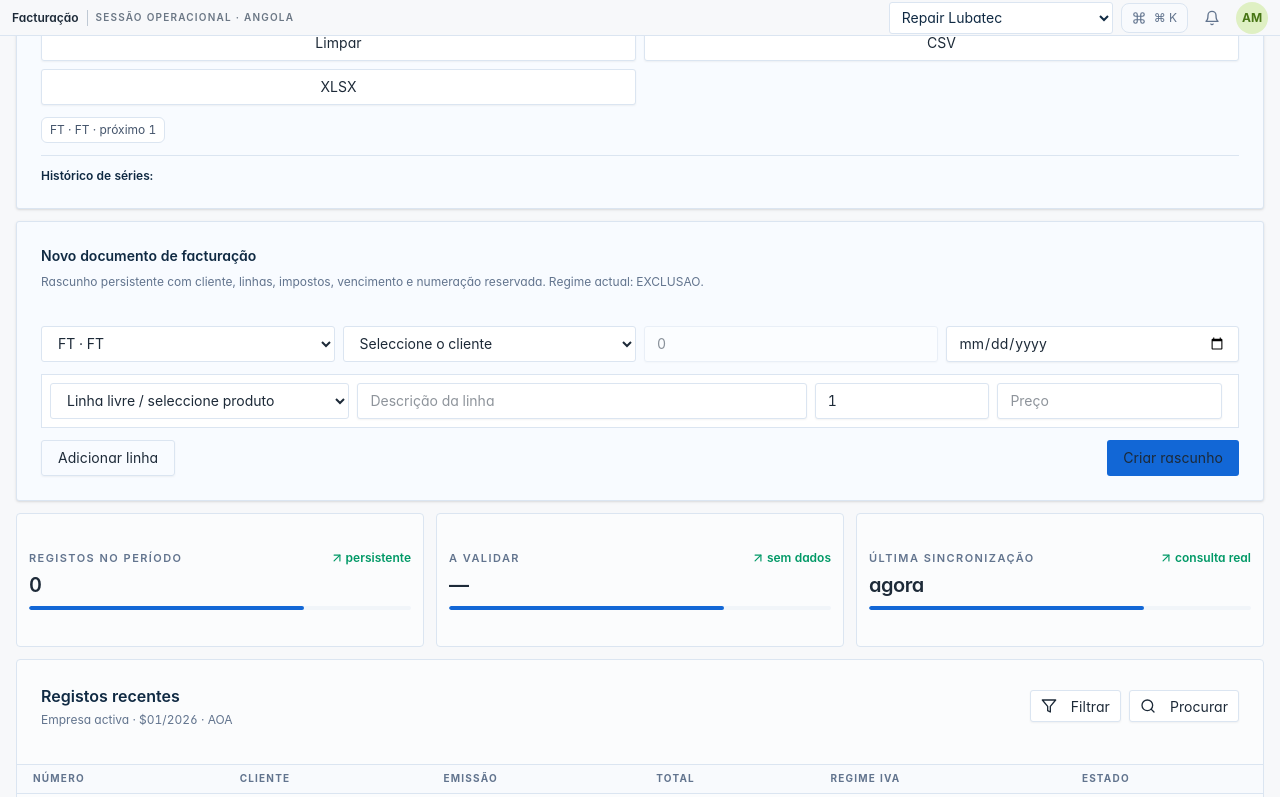
Test: Home traceability integration › creates a billing draft through the real document mutation contract
(page scrolled)
Submit the form "Criar rascunho", box [41,326,1239,476]
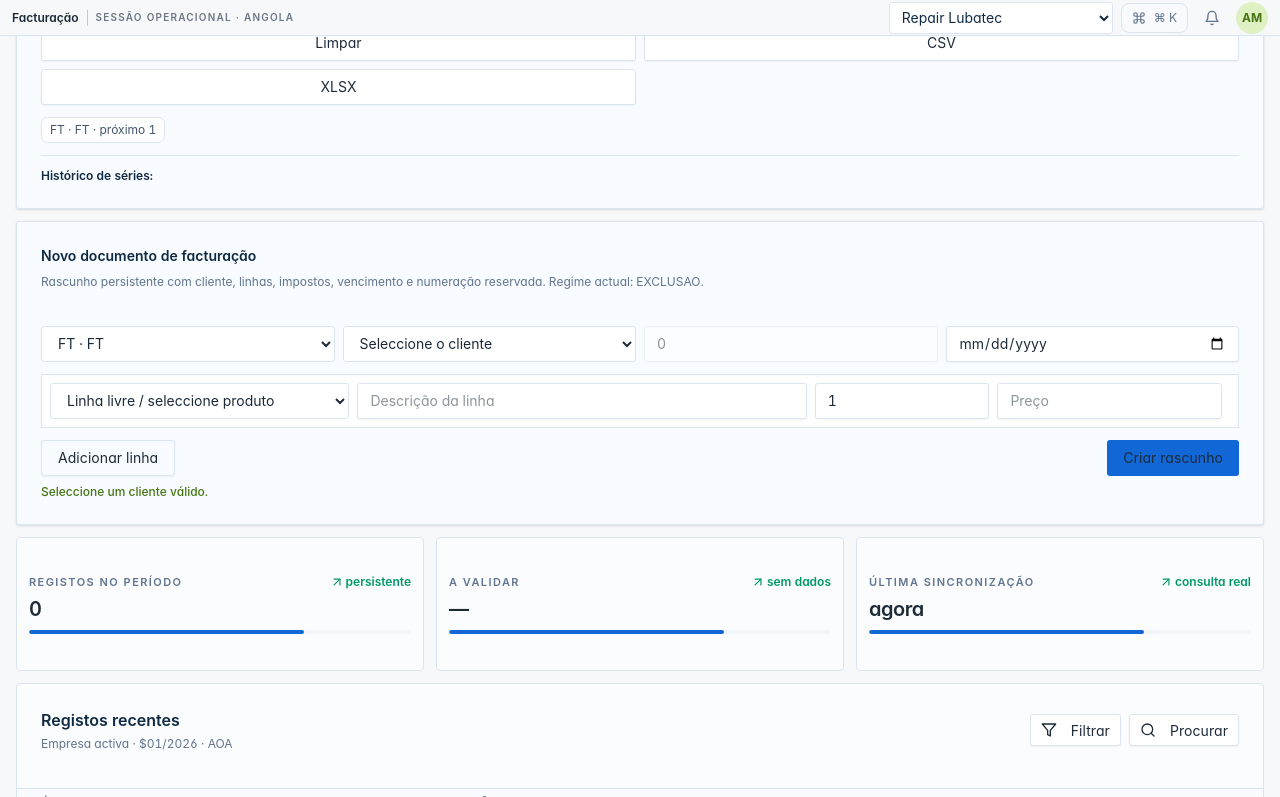
Check: the text "Seleccione um cliente válido." is shown, box [41,484,208,498]
Select "Cliente Teste · 500000001" in the dropdown named "Cliente": (489, 344) [342,326,636,362]
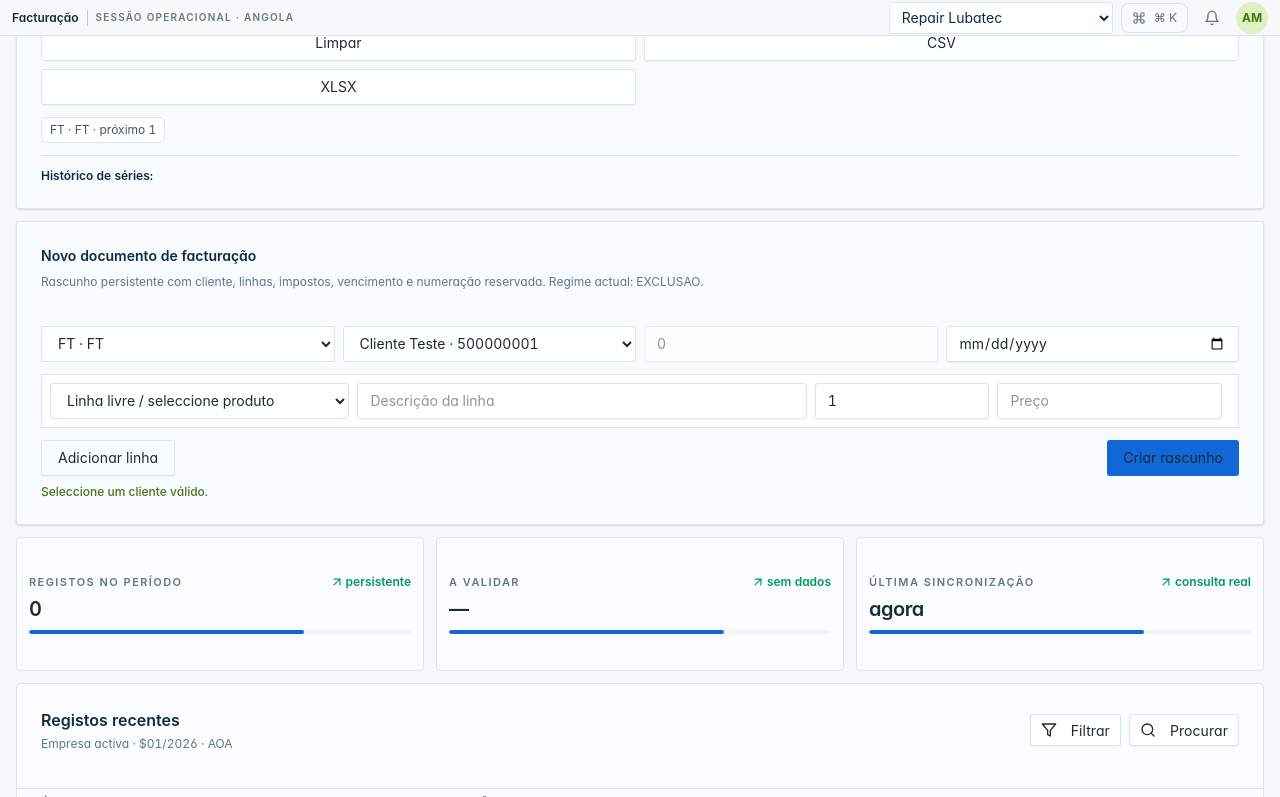
In the field with placeholder "Descrição da linha": (582, 400) [358,382,807,418], type "Serviço de manutenção"
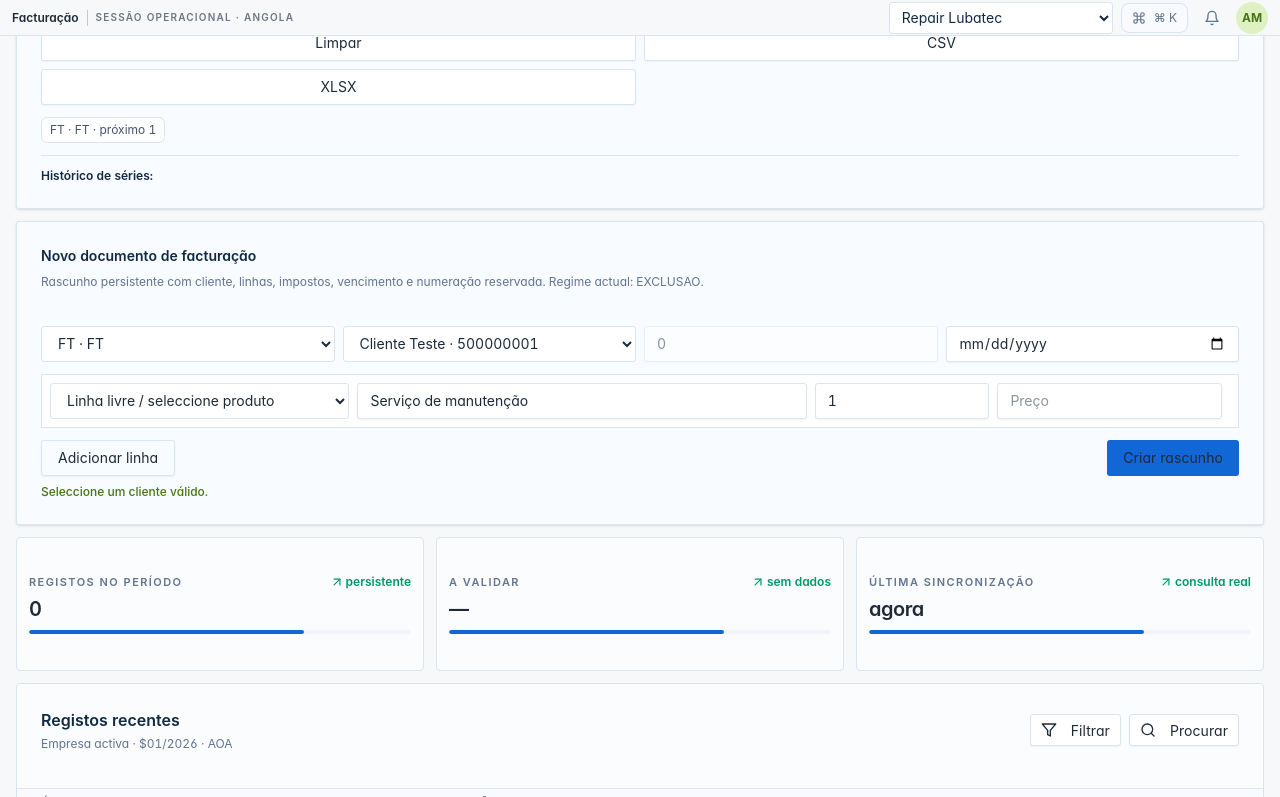
In the number field with placeholder "Preço": (1110, 400) [997,382,1222,418], type "1500"
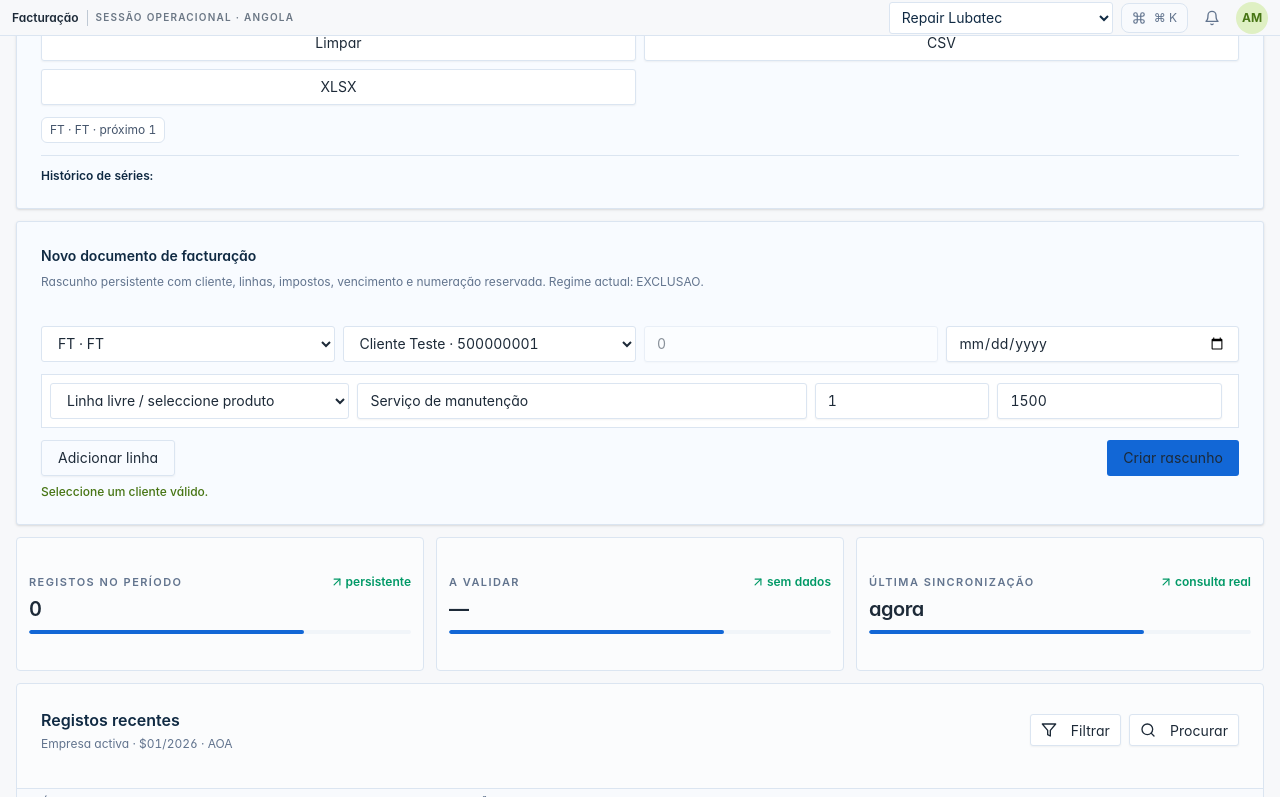
Submit the form "Criar rascunho", box [41,326,1239,476]
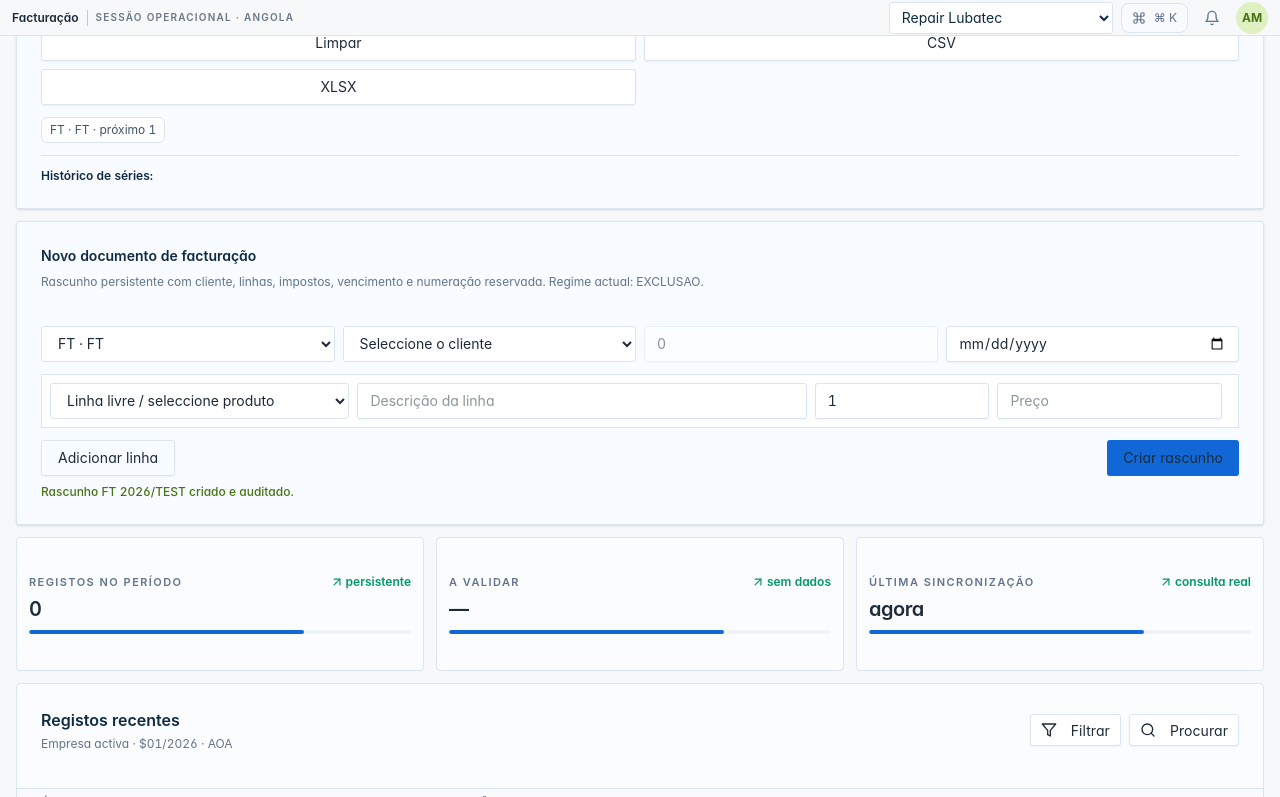
Check: the text "Rascunho FT 2026/TEST criado e auditado." is shown, box [41,484,294,498]
